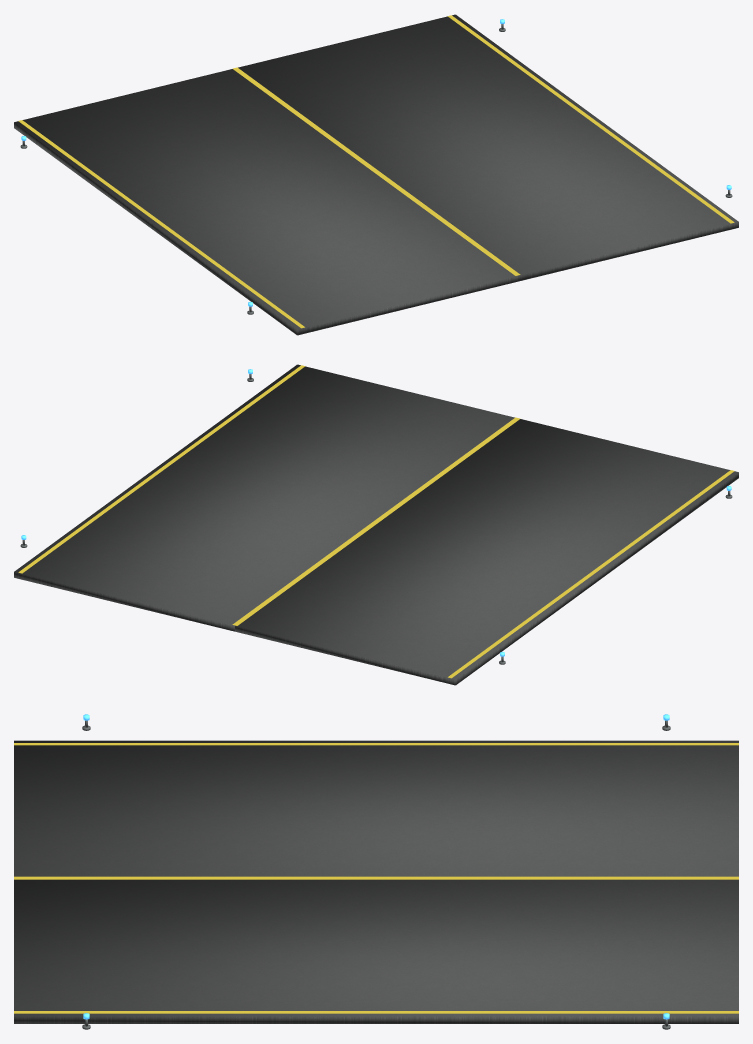
Rendered from PZ_Taxiway_Straight_18x20m.glb.
3 renders of one model, top to bottom at view 1: azimuth 30°, elevation 25°; view 2: azimuth 150°, elevation 25°; view 3: azimuth 270°, elevation 25°, orthographic. The views are drawn at different scales.
Visible parts, largest first — view 1: TWY_Asphalt_West_Half, TWY_Asphalt_East_Half, TWY_YellowCenterline, TWY_YellowEdge_1, TWY_YellowEdge_-1; view 2: TWY_Asphalt_West_Half, TWY_Asphalt_East_Half, TWY_YellowCenterline, TWY_YellowEdge_1, TWY_YellowEdge_-1; view 3: TWY_Asphalt_East_Half, TWY_Asphalt_West_Half, TWY_YellowCenterline, TWY_YellowEdge_-1, TWY_YellowEdge_1.
Part boxes in pixels (<box>): TWY_Asphalt_West_Half: <box>14,69,517,335</box>; TWY_Asphalt_East_Half: <box>238,14,738,281</box>; TWY_YellowCenterline: <box>232,67,520,275</box>; TWY_YellowEdge_1: <box>447,15,734,223</box>; TWY_YellowEdge_-1: <box>18,120,304,328</box>; TWY_Asphalt_West_Half: <box>235,419,738,685</box>; TWY_Asphalt_East_Half: <box>14,364,514,631</box>; TWY_YellowCenterline: <box>232,417,520,625</box>; TWY_YellowEdge_1: <box>18,365,305,573</box>; TWY_YellowEdge_-1: <box>448,470,734,678</box>; TWY_Asphalt_East_Half: <box>14,879,738,1023</box>; TWY_Asphalt_West_Half: <box>14,740,738,876</box>; TWY_YellowCenterline: <box>14,876,738,879</box>; TWY_YellowEdge_-1: <box>14,743,738,745</box>; TWY_YellowEdge_1: <box>14,1011,738,1013</box>.
Bounding box in the file's own units: 19.73 × 0.64 × 20.
Materials: 5 (3 with a texture image).
